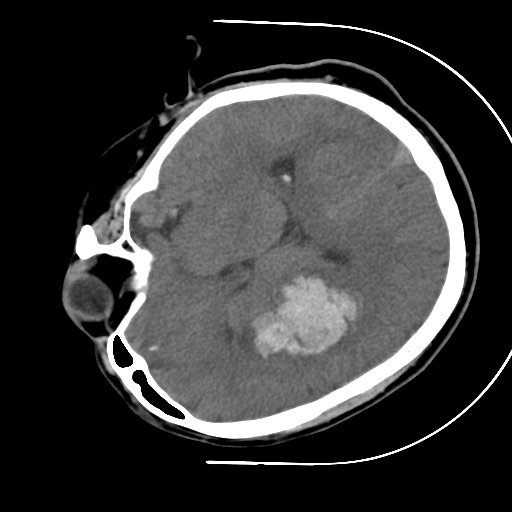a: (224, 248, 386, 384)
